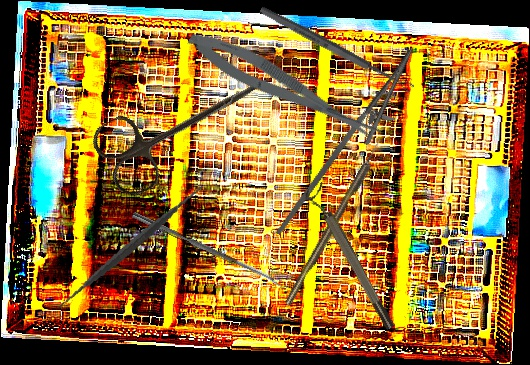Fixation Ring: (302, 182, 398, 335)
Hook Surgical: (283, 137, 386, 307)
Iris Scissors: (86, 41, 287, 203)
Micro Scissor: (182, 20, 386, 155)
Needle Holder: (275, 33, 430, 258)
Spatula Surgical: (47, 163, 213, 331)
Surgical Spoon: (258, 4, 415, 95), (131, 211, 283, 288)
